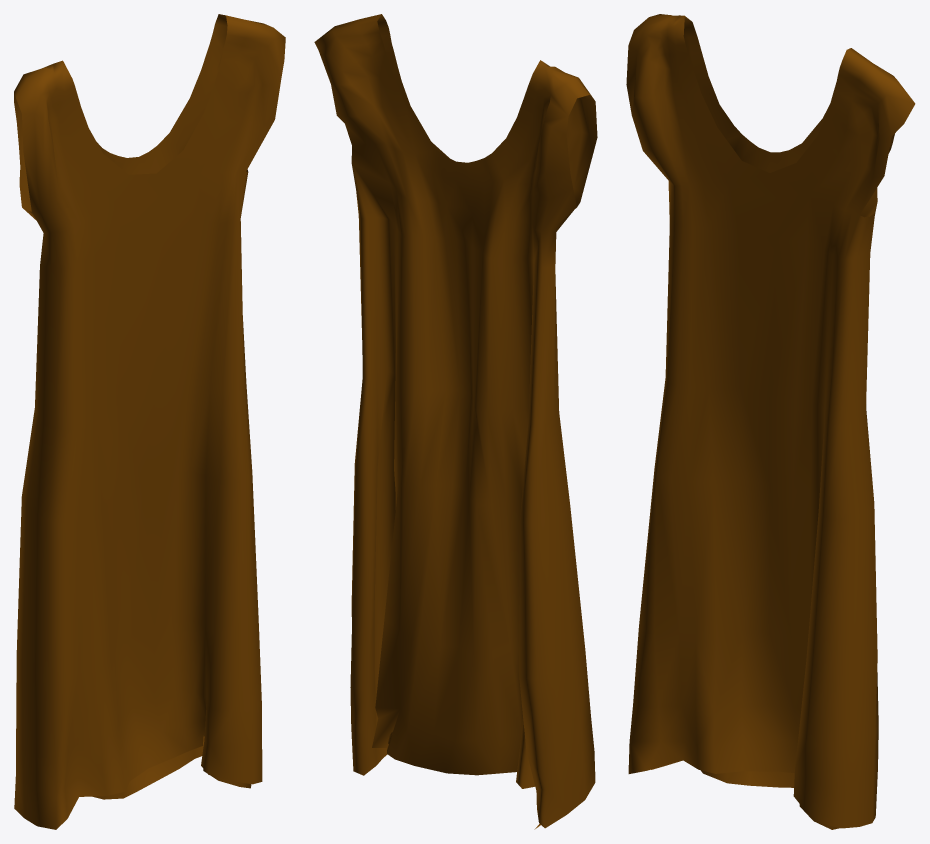
File: Dress03.fbx
3 renders of one model, left to right at view 1: azimuth 30°, elevation 25°; view 2: azimuth 150°, elevation 25°; view 3: azimuth 330°, elevation 25°, orthographic. The views are drawn at different scales.
Visible parts, largest first — view 1: Dress03; view 2: Dress03; view 3: Dress03.
Boxes of the visible parts, x1,y1,x2,y2 form: Dress03: [14, 14, 285, 829]; Dress03: [314, 14, 597, 829]; Dress03: [626, 14, 915, 829].
Bounding box in the file's own units: 49.7 × 133 × 16.52.
